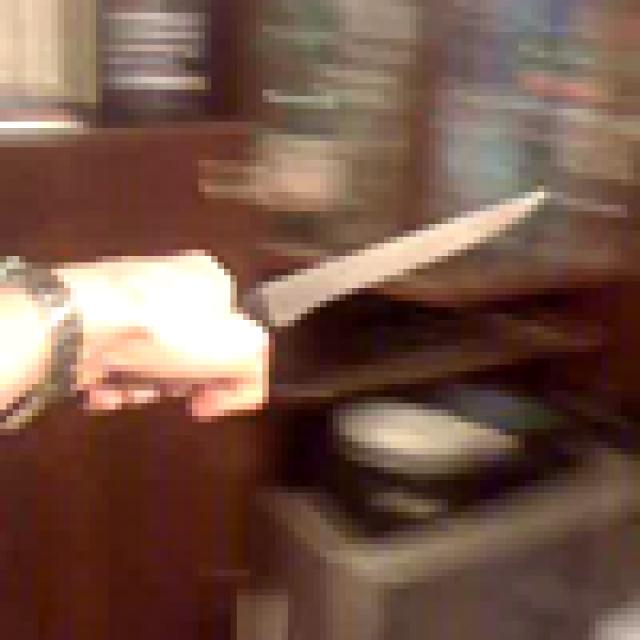weapon: (166, 167, 564, 390)
